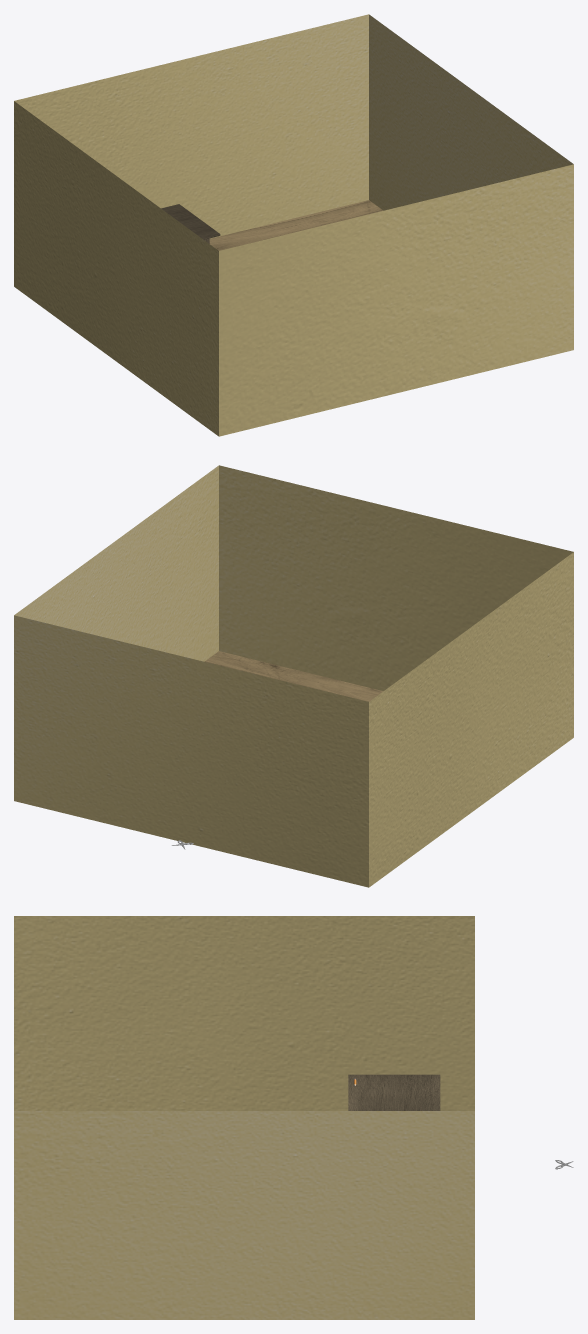
Rendered from shop.glb.
The picture shows the model from 3 angles, top to bottom: view 1: azimuth 30°, elevation 25°; view 2: azimuth 150°, elevation 25°; view 3: azimuth 270°, elevation 25°; orthographic projection. The views are drawn at different scales.
Parts seen in each view (by area): view 1: Shop Walls, Shop Floor, Table; view 2: Shop Walls, Shop Floor; view 3: Shop Walls, Table.
Part boxes in pixels (<box>): Shop Walls: <box>14,14,573,436</box>; Shop Floor: <box>209,200,383,250</box>; Table: <box>161,204,220,243</box>; Shop Walls: <box>14,465,573,887</box>; Shop Floor: <box>204,651,383,701</box>; Shop Walls: <box>14,916,474,1319</box>; Table: <box>348,1074,440,1110</box>.
Size of the model in its own units: 4 by 2 by 4.86.
Materials: 8 (7 with a texture image).
